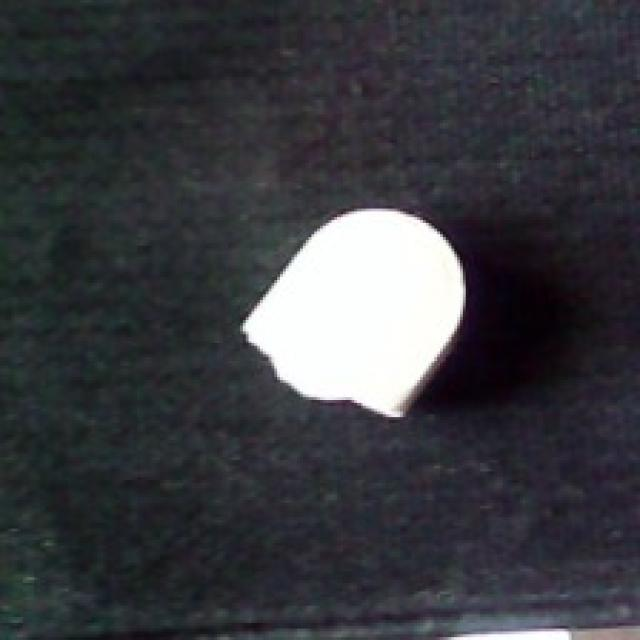defected: (232, 200, 472, 426)
